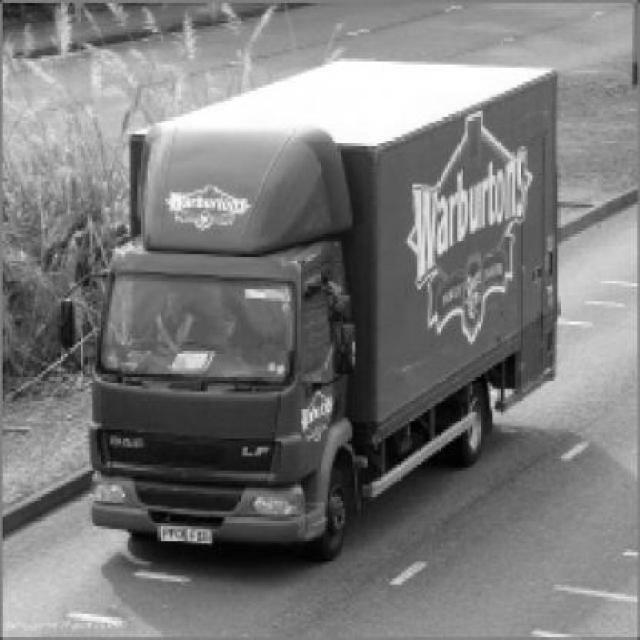Box Truck: (87, 60, 561, 562)
